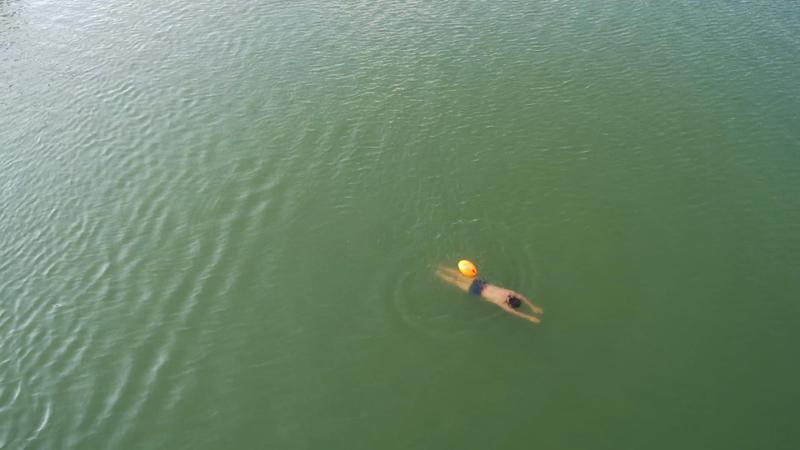swimmers: (435, 264, 544, 326)
